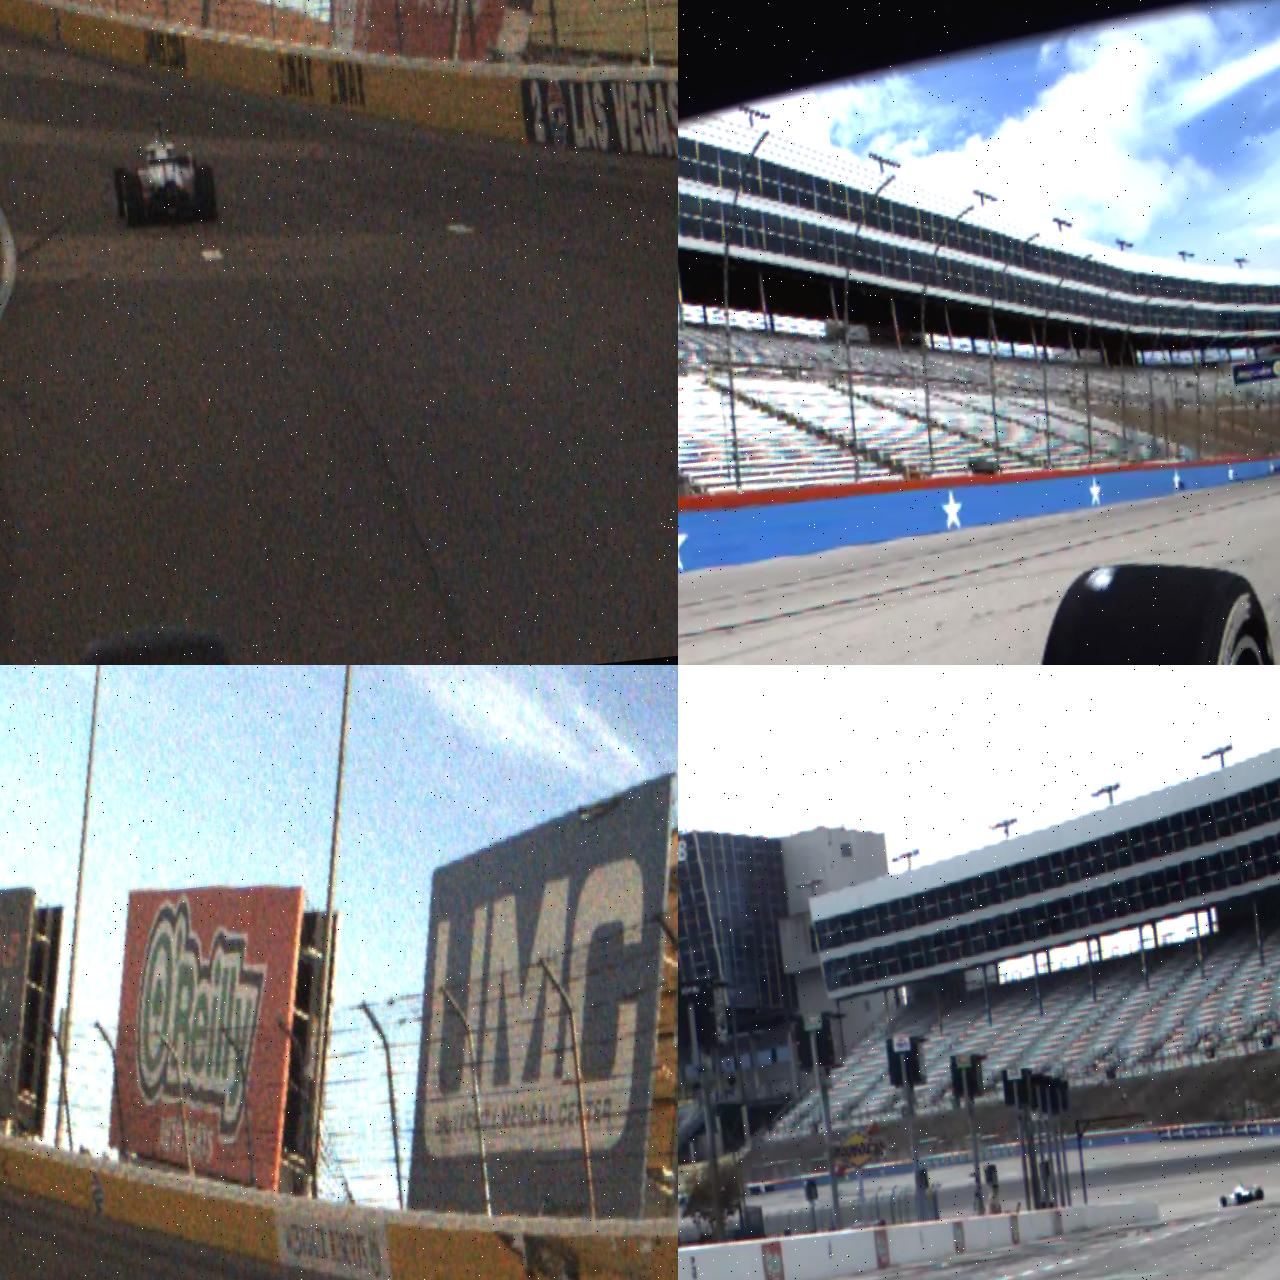AV: (107, 113, 220, 233), (1219, 1177, 1266, 1207)
Wheel: (1010, 549, 1280, 665), (122, 173, 148, 232), (196, 164, 219, 225), (113, 165, 135, 219), (1219, 1194, 1228, 1207), (1255, 1187, 1264, 1201)
